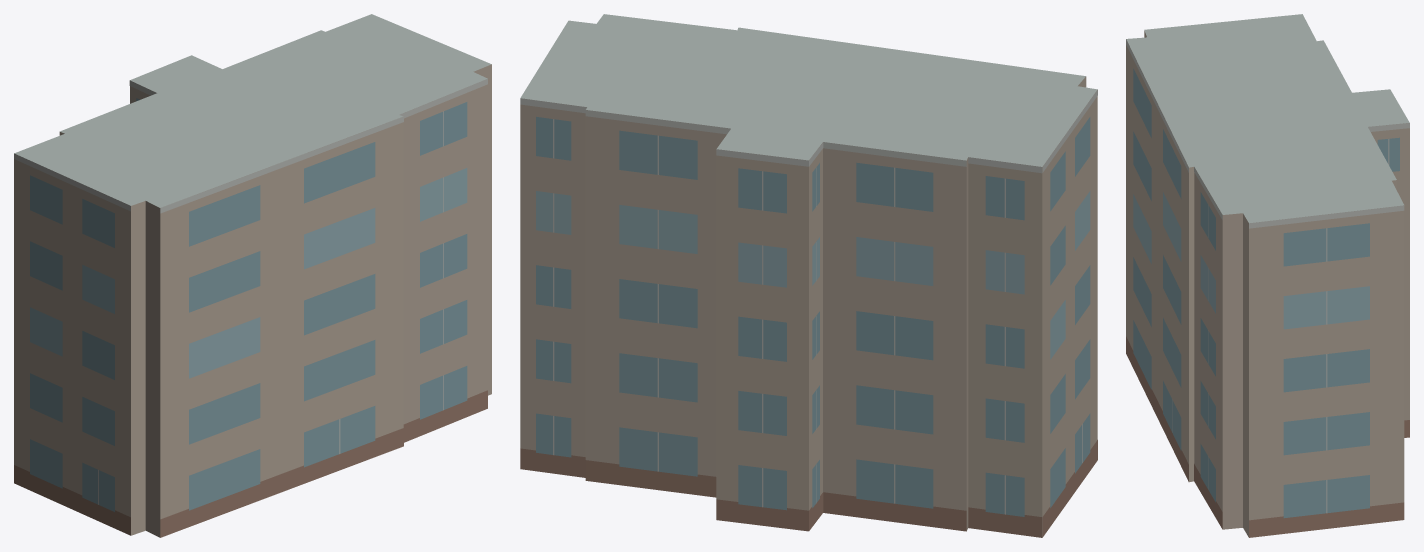
File: survey-upis-32598800.glb
The picture shows the model from 3 angles, left to right: view 1: azimuth 30°, elevation 25°; view 2: azimuth 150°, elevation 25°; view 3: azimuth 270°, elevation 25°; orthographic projection. The views are drawn at different scales.
Parts seen in each view (by area): view 1: survey-upis-32598800.tmp; view 2: survey-upis-32598800.tmp; view 3: survey-upis-32598800.tmp.
Part boxes in pixels (left/top/right/bottom): survey-upis-32598800.tmp: left=14, top=14, right=491, bottom=537; survey-upis-32598800.tmp: left=520, top=14, right=1097, bottom=537; survey-upis-32598800.tmp: left=1126, top=14, right=1409, bottom=537.
Bounding box in the file's own units: 20.41 × 14.3 × 11.7.
